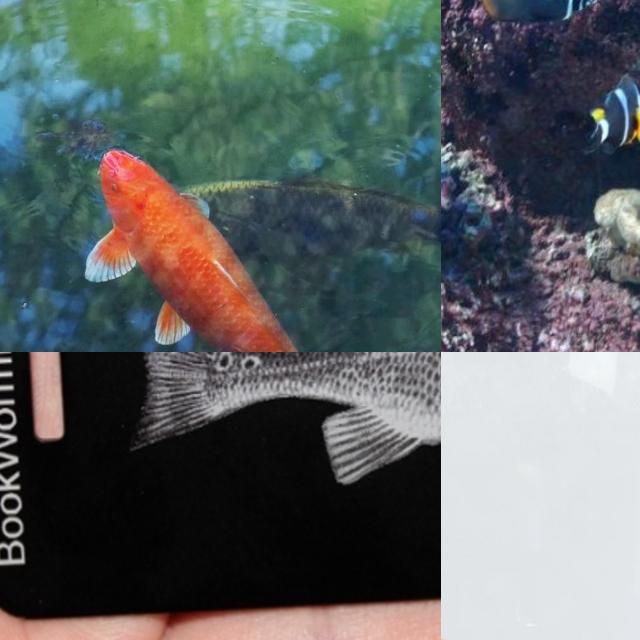fish: (0, 0, 441, 352), (117, 352, 441, 482), (483, 456, 546, 514)
